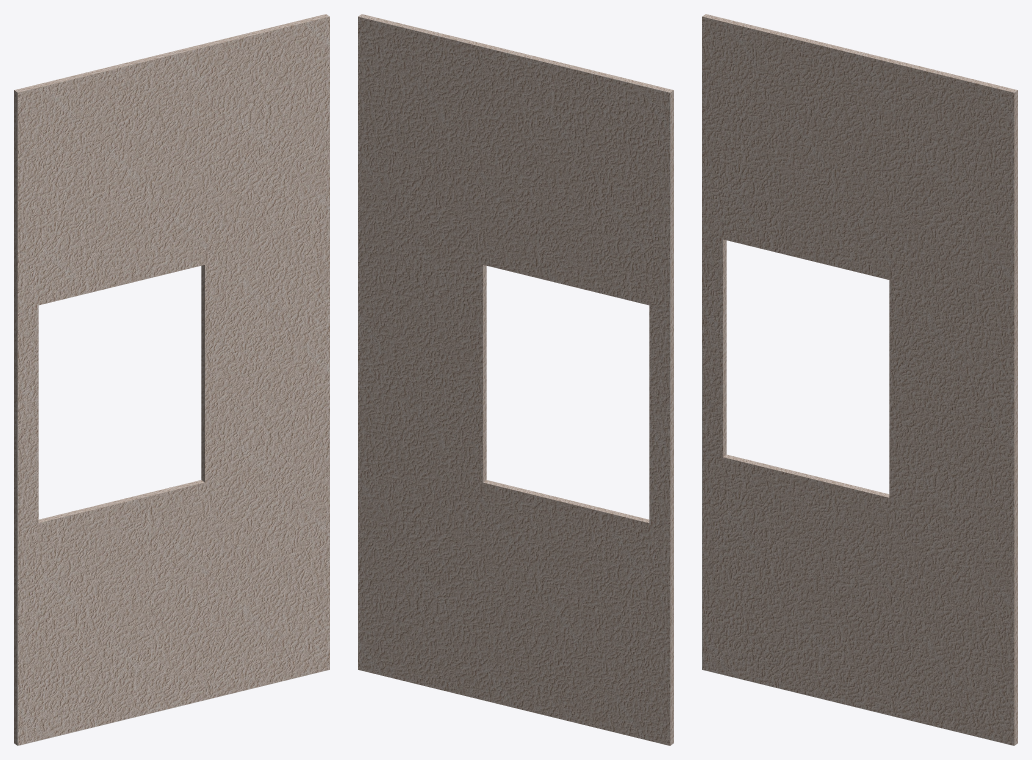
The model's file is subwall window side.FBX.
3 views of the same model, side by side, from view 1: azimuth 30°, elevation 25°; view 2: azimuth 150°, elevation 25°; view 3: azimuth 330°, elevation 25° (orthographic).
Parts seen in each view (by area): view 1: subwall left; view 2: subwall left; view 3: subwall left.
Part boxes in pixels (x1,y1,x2,y2): subwall left: (14, 14, 329, 745); subwall left: (358, 14, 673, 745); subwall left: (702, 14, 1017, 745).
Size of the model in its own units: 59.06 by 118 by 1.18.
Materials: 1 (1 with a texture image).
